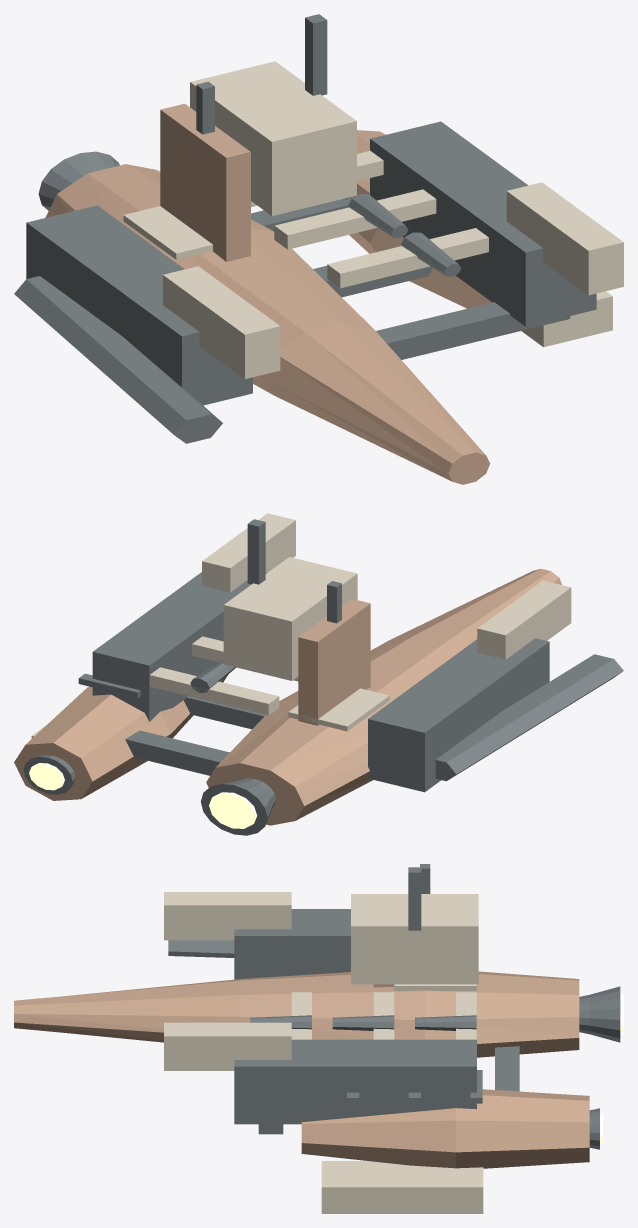
The picture shows the model from 3 angles, top to bottom: view 1: azimuth 30°, elevation 25°; view 2: azimuth 150°, elevation 25°; view 3: azimuth 270°, elevation 25°; orthographic projection. The views are drawn at different scales.
Bounding box in the file's own units: 15.15 × 8.77 × 19.11.
